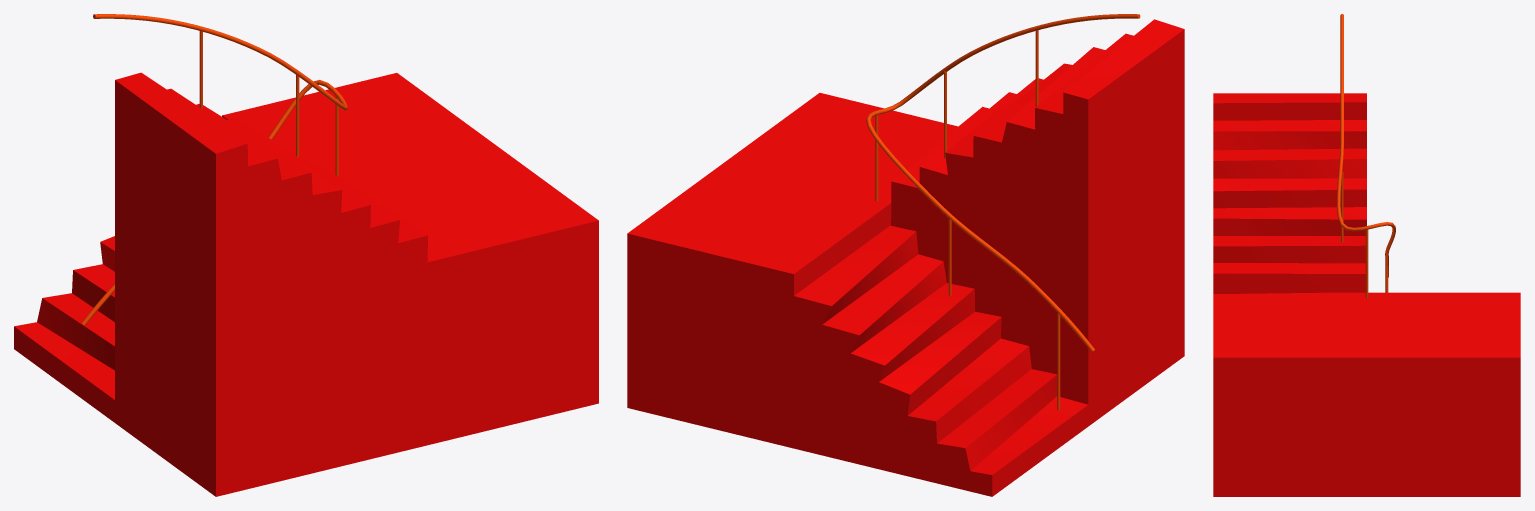
The model's file is Stairs.FBX.
3 renders of one model, left to right at view 1: azimuth 30°, elevation 25°; view 2: azimuth 150°, elevation 25°; view 3: azimuth 270°, elevation 25°, orthographic. The views are drawn at different scales.
Parts seen in each view (by area): view 1: Stairs001; view 2: Stairs001; view 3: Stairs001.
Part boxes in pixels (bbox=[...]): Stairs001: bbox=[14, 14, 598, 496]; Stairs001: bbox=[627, 14, 1184, 496]; Stairs001: bbox=[1213, 14, 1520, 496].
Size of the model in its own units: 200 by 196 by 167.
